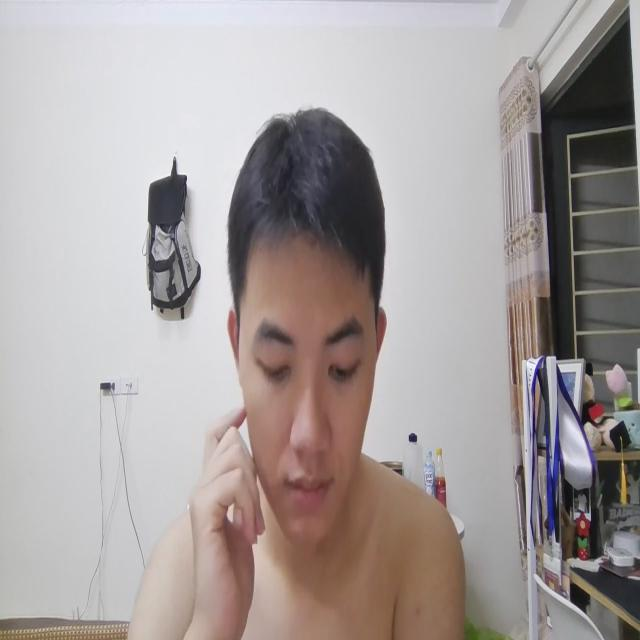student: (207, 108, 403, 631)
